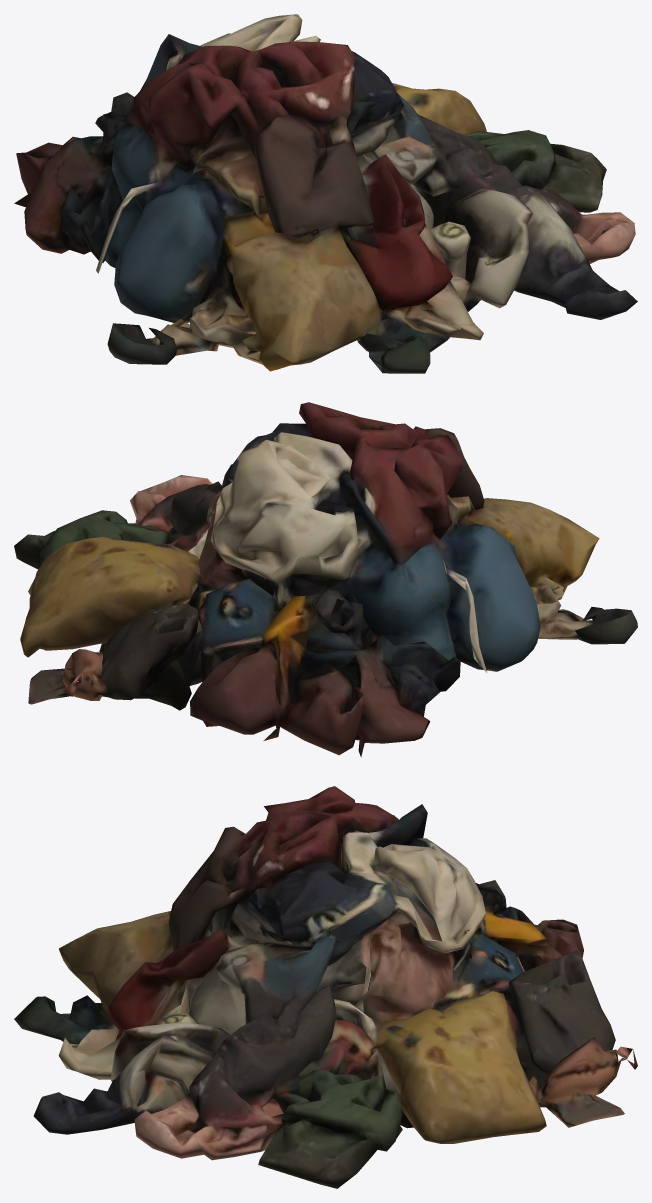
File: de_laundry.glb
3 renders of one model, top to bottom at view 1: azimuth 30°, elevation 25°; view 2: azimuth 150°, elevation 25°; view 3: azimuth 270°, elevation 25°, orthographic.
Parts seen in each view (by area): view 1: tripo_node_dffaec1e-ef9e-4fa6-b6a0-2e8494876430; view 2: tripo_node_dffaec1e-ef9e-4fa6-b6a0-2e8494876430; view 3: tripo_node_dffaec1e-ef9e-4fa6-b6a0-2e8494876430.
Boxes of the visible parts, <box> form: tripo_node_dffaec1e-ef9e-4fa6-b6a0-2e8494876430: <box>14,14,637,373</box>; tripo_node_dffaec1e-ef9e-4fa6-b6a0-2e8494876430: <box>14,402,637,757</box>; tripo_node_dffaec1e-ef9e-4fa6-b6a0-2e8494876430: <box>14,786,637,1188</box>.
Bounding box in the file's own units: 0.9972 × 0.3887 × 0.9882.
Materials: 1 (1 with a texture image).
